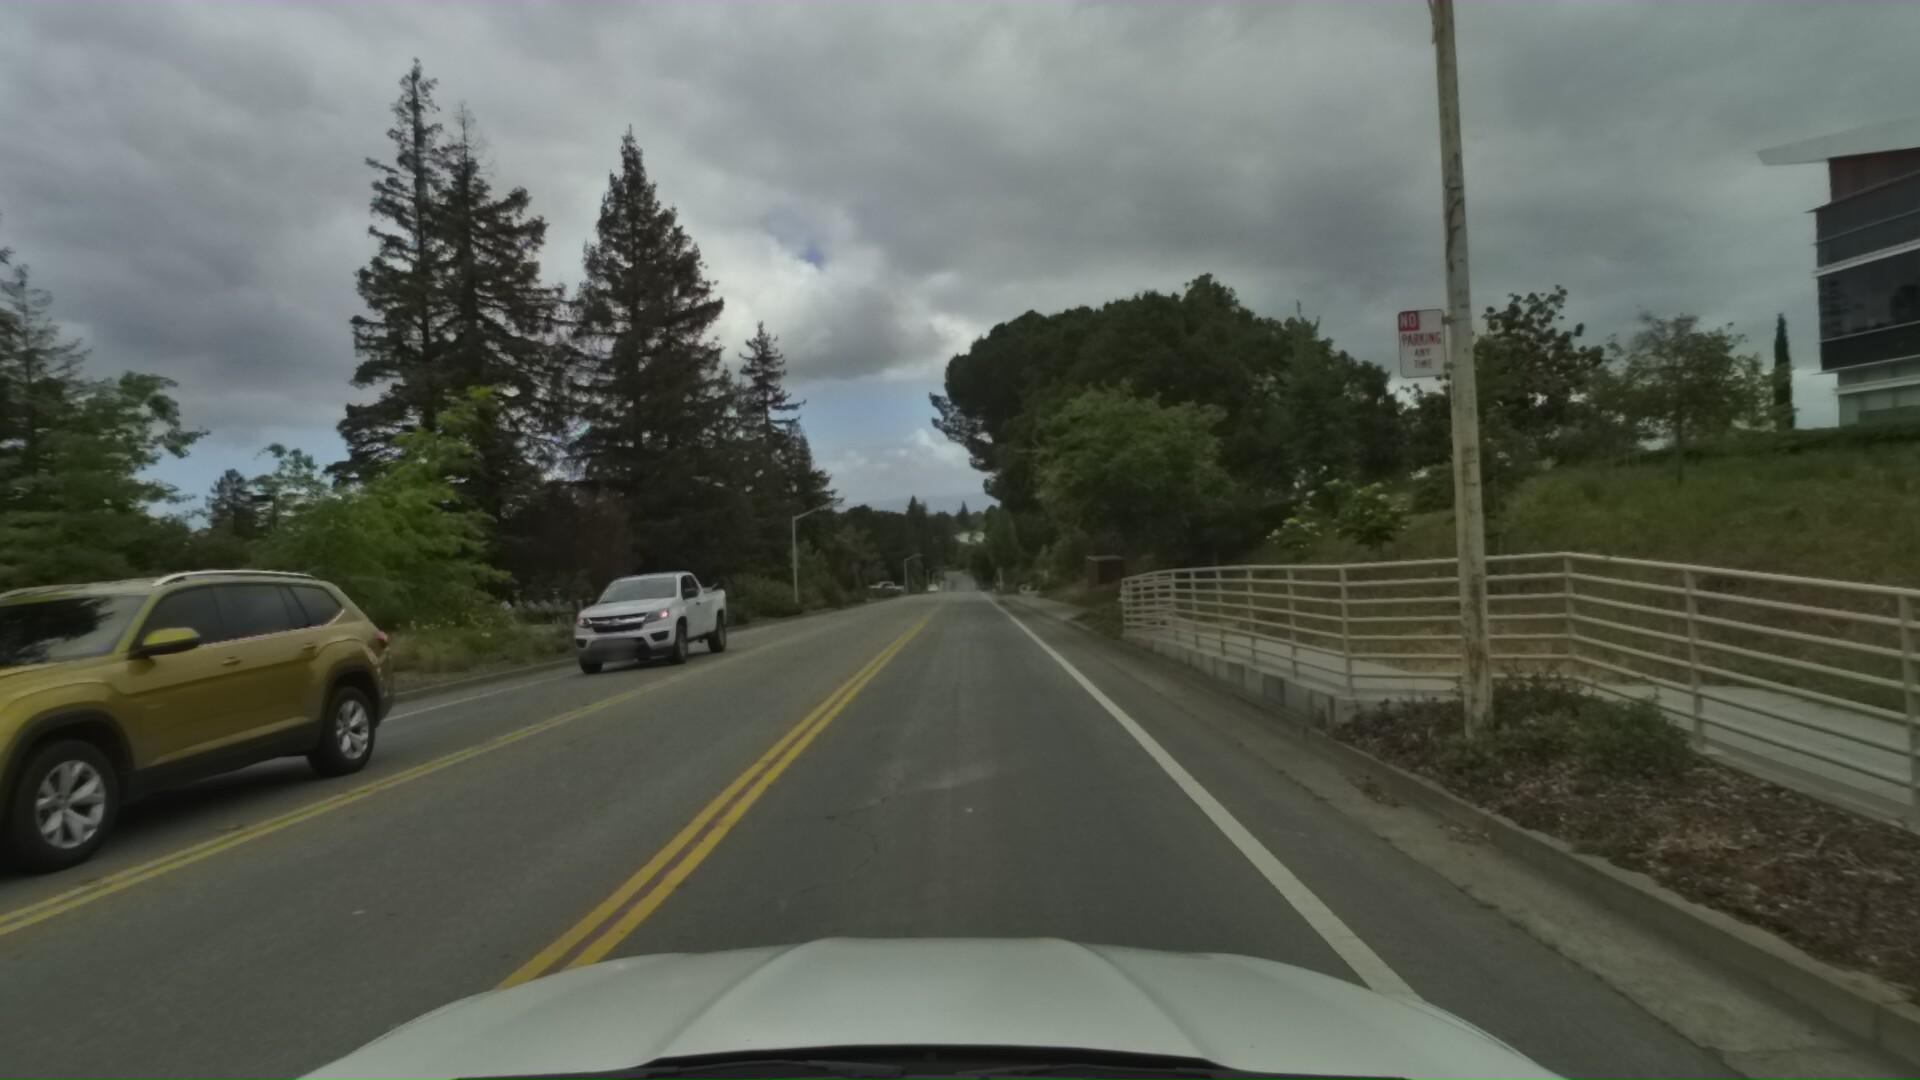car: (0, 554, 385, 1046), (535, 558, 727, 687)
